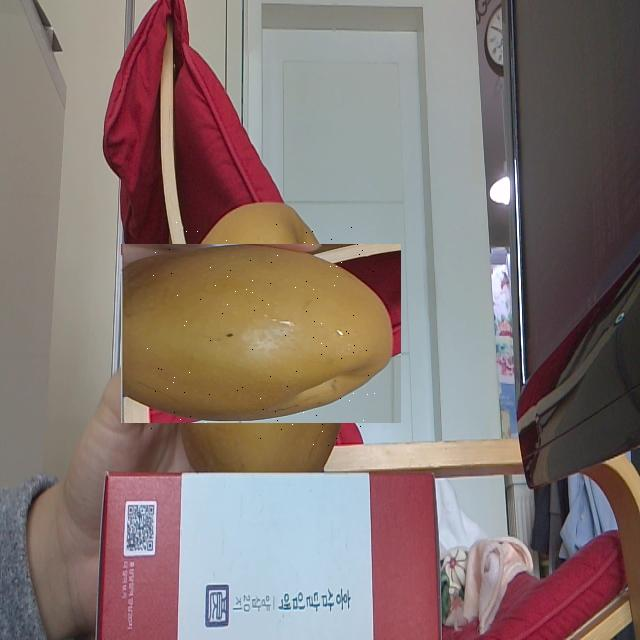pear: (145, 218, 376, 448)
